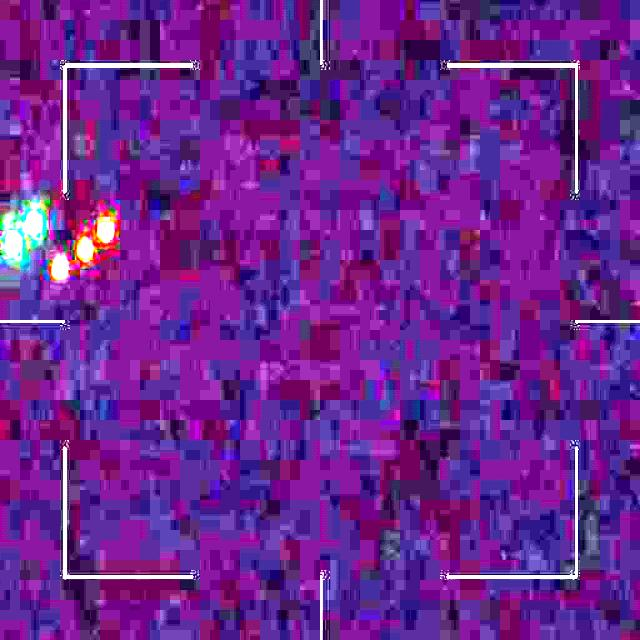bird: (1, 206, 115, 284)
